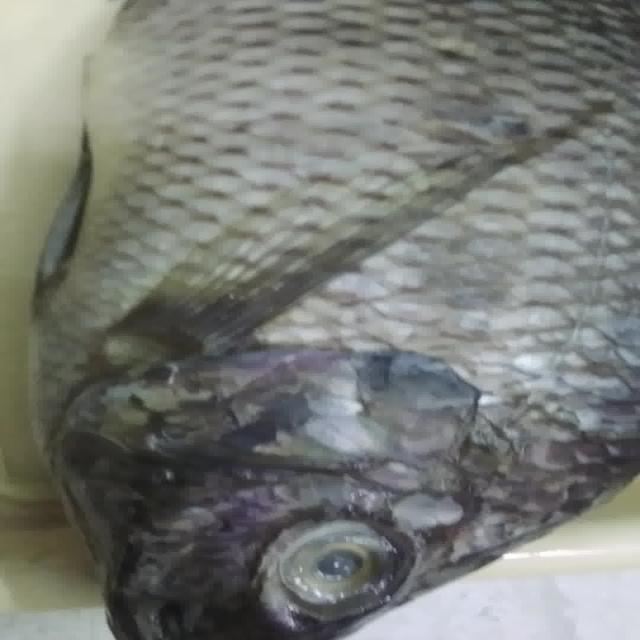Non-Fresh: (95, 258, 596, 489), (259, 518, 407, 603)
